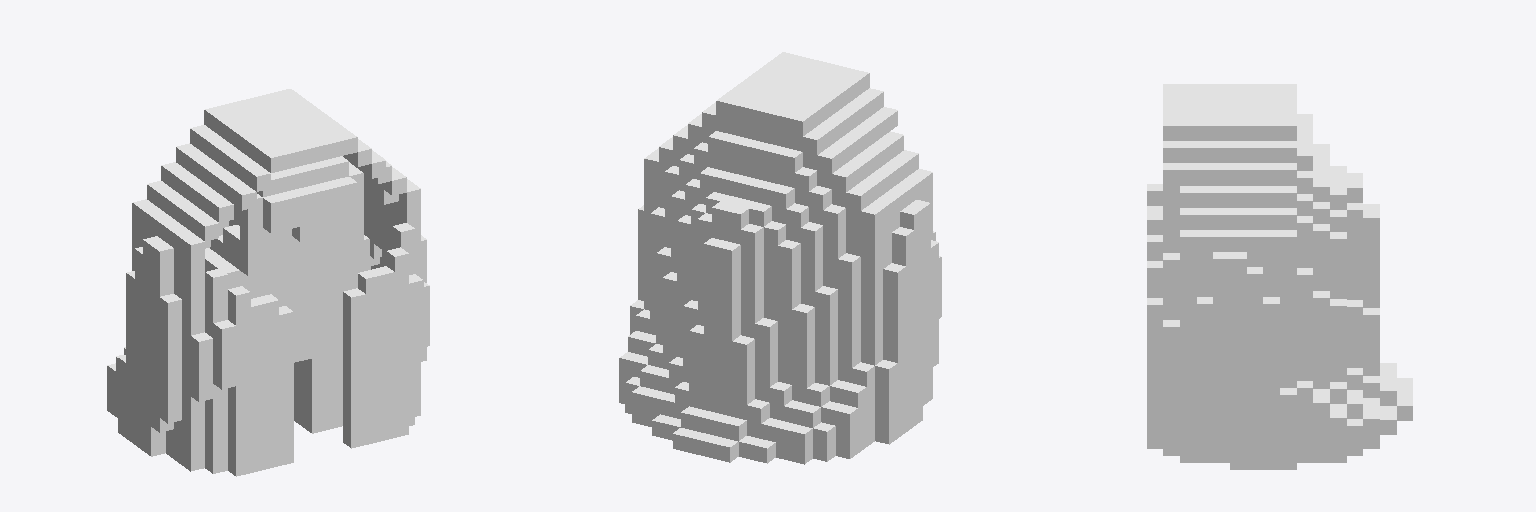
The model's file is Magician.obj.
3 views of the same model, side by side, from view 1: azimuth 30°, elevation 25°; view 2: azimuth 150°, elevation 25°; view 3: azimuth 270°, elevation 25° (orthographic).
Parts seen in each view (by area): view 1: object 1; view 2: object 1; view 3: object 1.
Part boxes in pixels (left/top/right/bottom): object 1: left=107, top=89, right=429, bottom=476; object 1: left=619, top=52, right=941, bottom=464; object 1: left=1147, top=84, right=1412, bottom=469.
Size of the model in its own units: 1.8 by 2 by 1.6.